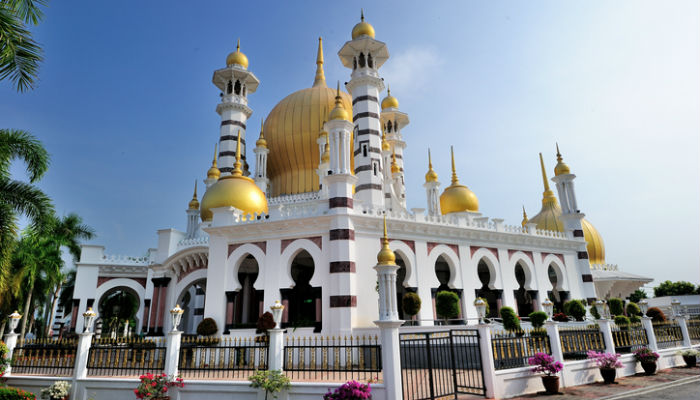Mosque: (181, 24, 605, 330)
